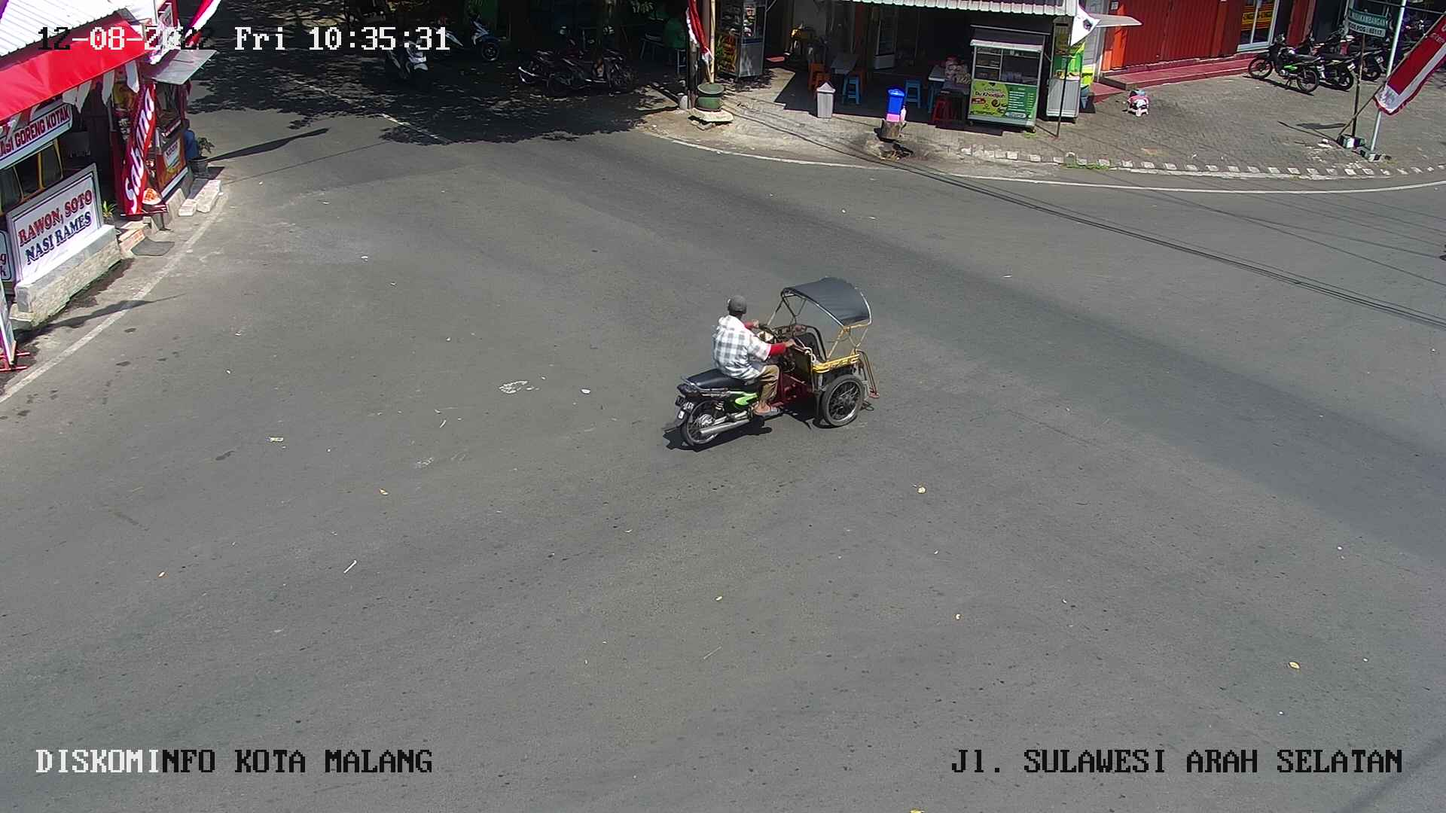without_helmet: (627, 260, 899, 458)
